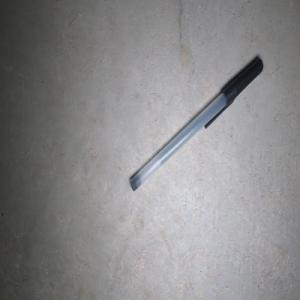Pen: (130, 58, 263, 191)
